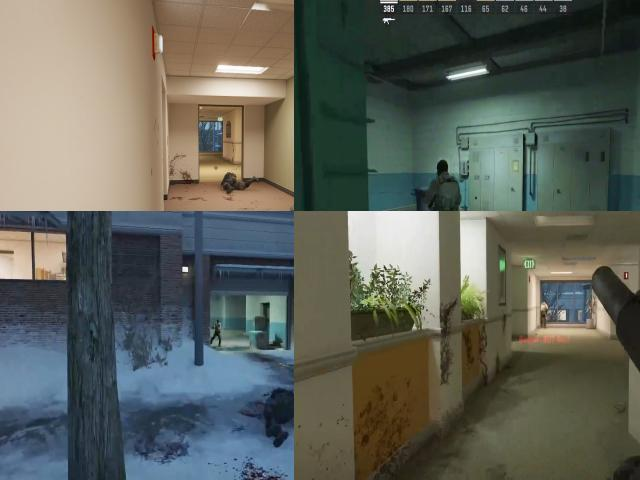CT-Head: (221, 172, 259, 193)
Dead: (254, 376, 294, 453)
T: (426, 156, 462, 211), (211, 318, 222, 342), (540, 301, 546, 320)
T-Head: (434, 160, 451, 183), (214, 319, 220, 326)
